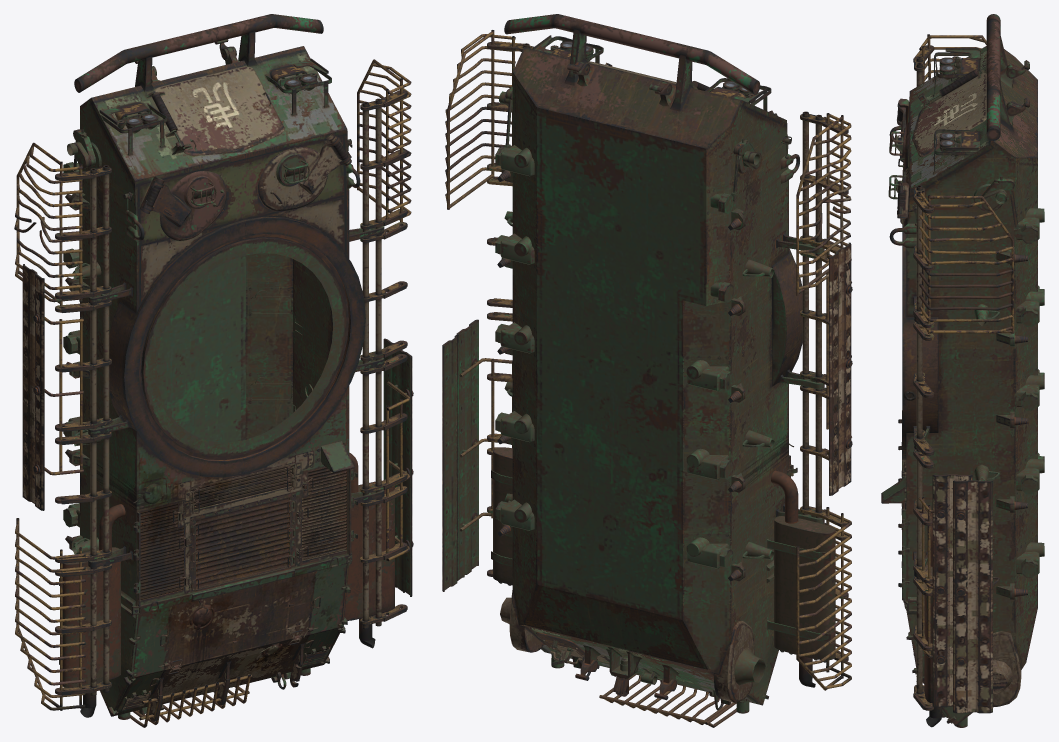
The model's file is Hull_01.glb.
3 renders of one model, left to right at view 1: azimuth 30°, elevation 25°; view 2: azimuth 150°, elevation 25°; view 3: azimuth 270°, elevation 25°, orthographic. The views are drawn at different scales.
Visible parts, largest first — view 1: set_0_group_0; view 2: set_0_group_0; view 3: set_0_group_0.
Part boxes in pixels (left/top/right/bottom): set_0_group_0: left=14, top=14, right=413, bottom=727; set_0_group_0: left=442, top=14, right=852, bottom=727; set_0_group_0: left=881, top=14, right=1044, bottom=727.
Bounding box in the file's own units: 3.24 × 5.38 × 1.25.
Materials: 2 (2 with a texture image).
